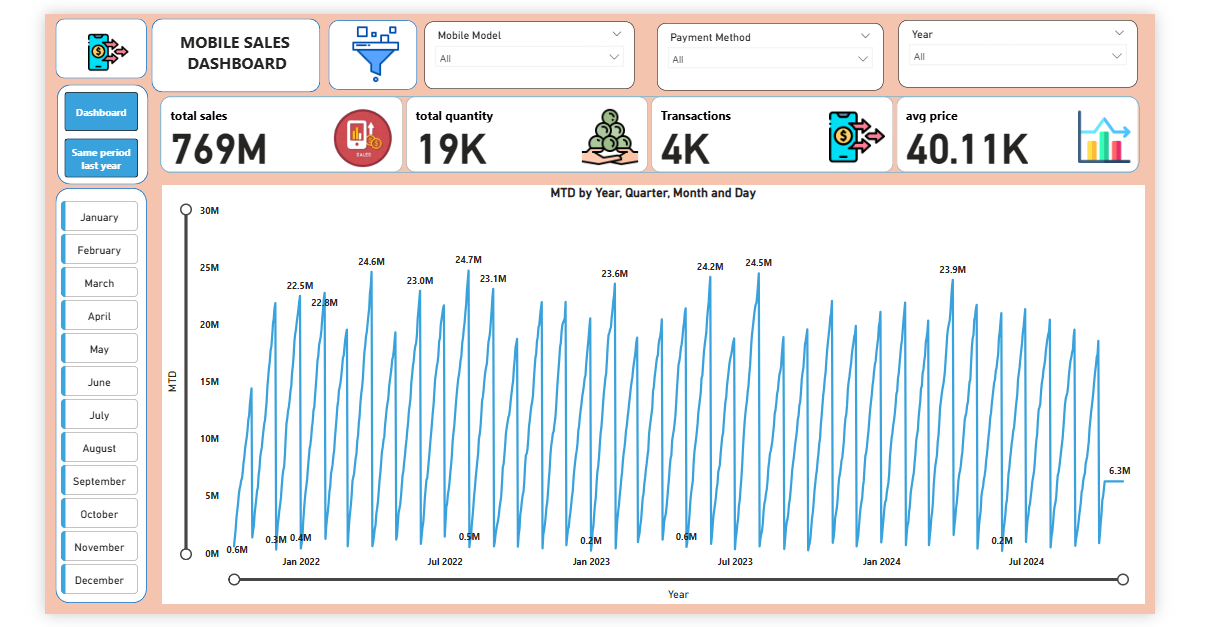

The dashboard page shown, as its layout file describes it:
{"tool":"powerbi","page":{"name":"MTD report","canvas":[1480,800],"ordinal":1},"visuals":[{"type":"shape","box":[13.3,6.7,121.7,80],"z":0},{"type":"image","box":[52.9,17.1,64.3,65.7],"z":1000},{"type":"shape","box":[15,93.3,121.7,133.3],"z":2000},{"type":"cardVisual","fields":{"Data":["sales_data.total sales","sales_data.total quantity","sales_data.Transactions","sales_data.avg price"]},"box":[148.3,103.3,1318.3,113.3],"z":3000},{"type":"shape","box":[378.3,8.3,118.3,93.3],"z":4000},{"type":"image","box":[343.3,10,193.3,86.7],"z":5000},{"type":"slicer","fields":{"Values":["sales_data.Mobile Model"]},"box":[506.7,10,280,90],"z":6000},{"type":"slicer","fields":{"Values":["sales_data.Payment Method"]},"box":[816.7,11.7,301.7,90],"z":7000},{"type":"slicer","fields":{"Values":["custom_calender.date.Variation.Date Hierarchy.Year"]},"box":[1138.3,8.3,318.3,90],"z":8000},{"type":"shape","box":[141.7,5,225,98.3],"z":9000},{"type":"textbox","box":[155,16.7,200,80],"z":10000},{"type":"lineChart","fields":{"Y":["sales_data.MTD"],"Category":["custom_calender.date.Variation.Date Hierarchy.Year","custom_calender.date.Variation.Date Hierarchy.Quarter","custom_calender.date.Variation.Date Hierarchy.Month","custom_calender.date.Variation.Date Hierarchy.Day"]},"box":[156,228,1310,558],"z":11000},{"type":"shape","box":[13.3,231.7,121.7,553.3],"z":12000},{"type":"advancedSlicerVisual","fields":{"Values":["custom_calender.date.Variation.Date Hierarchy.Month"]},"box":[15,243.3,113.3,540],"z":13000},{"type":"pageNavigator","box":[25,103.3,98.3,115],"z":14000}]}

Visuals, with their boxes on the page's 1480x800 design canvas (x1, y1, x2, y2). These are canvas units, not pixel positions in the 1220x627 screenshot, which may show the page scaled, cropped or inside an application window:
shape: (x1=13, y1=7, x2=135, y2=87)
image: (x1=53, y1=17, x2=117, y2=83)
shape: (x1=15, y1=93, x2=137, y2=227)
cardVisual - sales_data.total sales x sales_data.total quantity: (x1=148, y1=103, x2=1467, y2=217)
shape: (x1=378, y1=8, x2=497, y2=102)
image: (x1=343, y1=10, x2=537, y2=97)
slicer - sales_data.Mobile Model: (x1=507, y1=10, x2=787, y2=100)
slicer - sales_data.Payment Method: (x1=817, y1=12, x2=1118, y2=102)
slicer - custom_calender.date.Variation.Date Hierarchy.Year: (x1=1138, y1=8, x2=1457, y2=98)
shape: (x1=142, y1=5, x2=367, y2=103)
textbox: (x1=155, y1=17, x2=355, y2=97)
lineChart - sales_data.MTD x custom_calender.date.Variation.Date Hierarchy.Year: (x1=156, y1=228, x2=1466, y2=786)
shape: (x1=13, y1=232, x2=135, y2=785)
advancedSlicerVisual - custom_calender.date.Variation.Date Hierarchy.Month: (x1=15, y1=243, x2=128, y2=783)
pageNavigator: (x1=25, y1=103, x2=123, y2=218)
